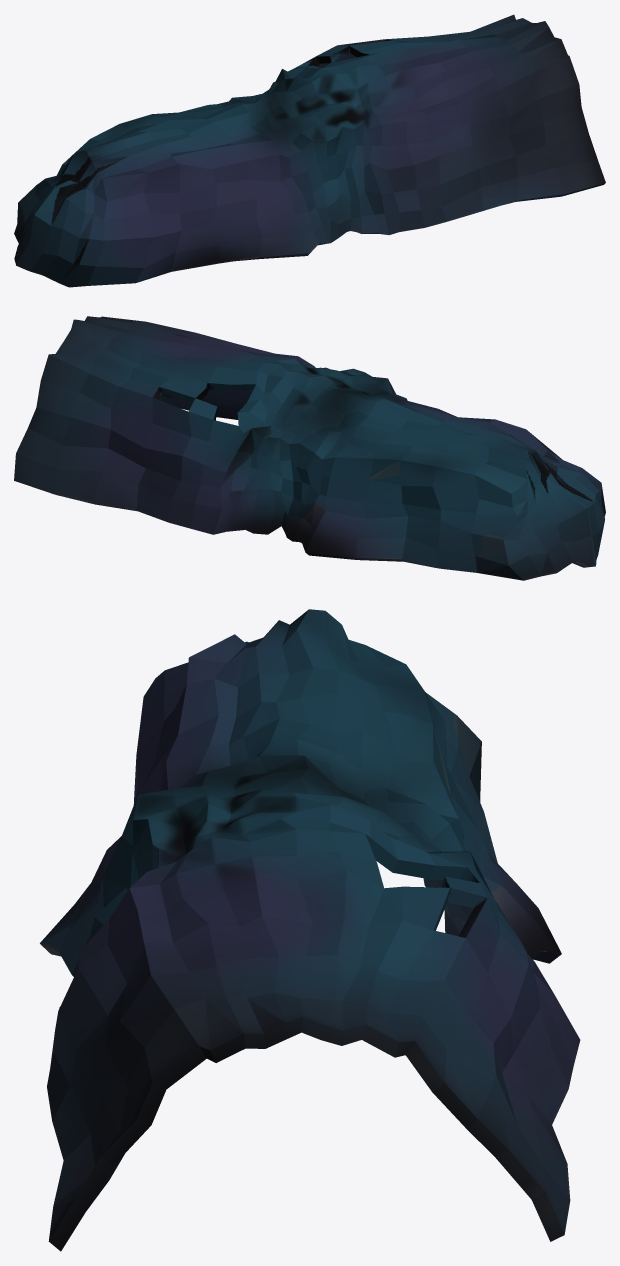
File: Techo.fbx
3 views of the same model, one above another, from view 1: azimuth 30°, elevation 25°; view 2: azimuth 150°, elevation 25°; view 3: azimuth 270°, elevation 25° (orthographic). The views are drawn at different scales.
Visible parts, largest first — view 1: Techo; view 2: Techo; view 3: Techo.
Part boxes in pixels (x1=…): Techo: x1=14, y1=14, x2=605, y2=287; Techo: x1=14, y1=316, x2=605, y2=580; Techo: x1=40, y1=609, x2=580, y2=1251.
Bounding box in the file's own units: 2200 × 511 × 980.
